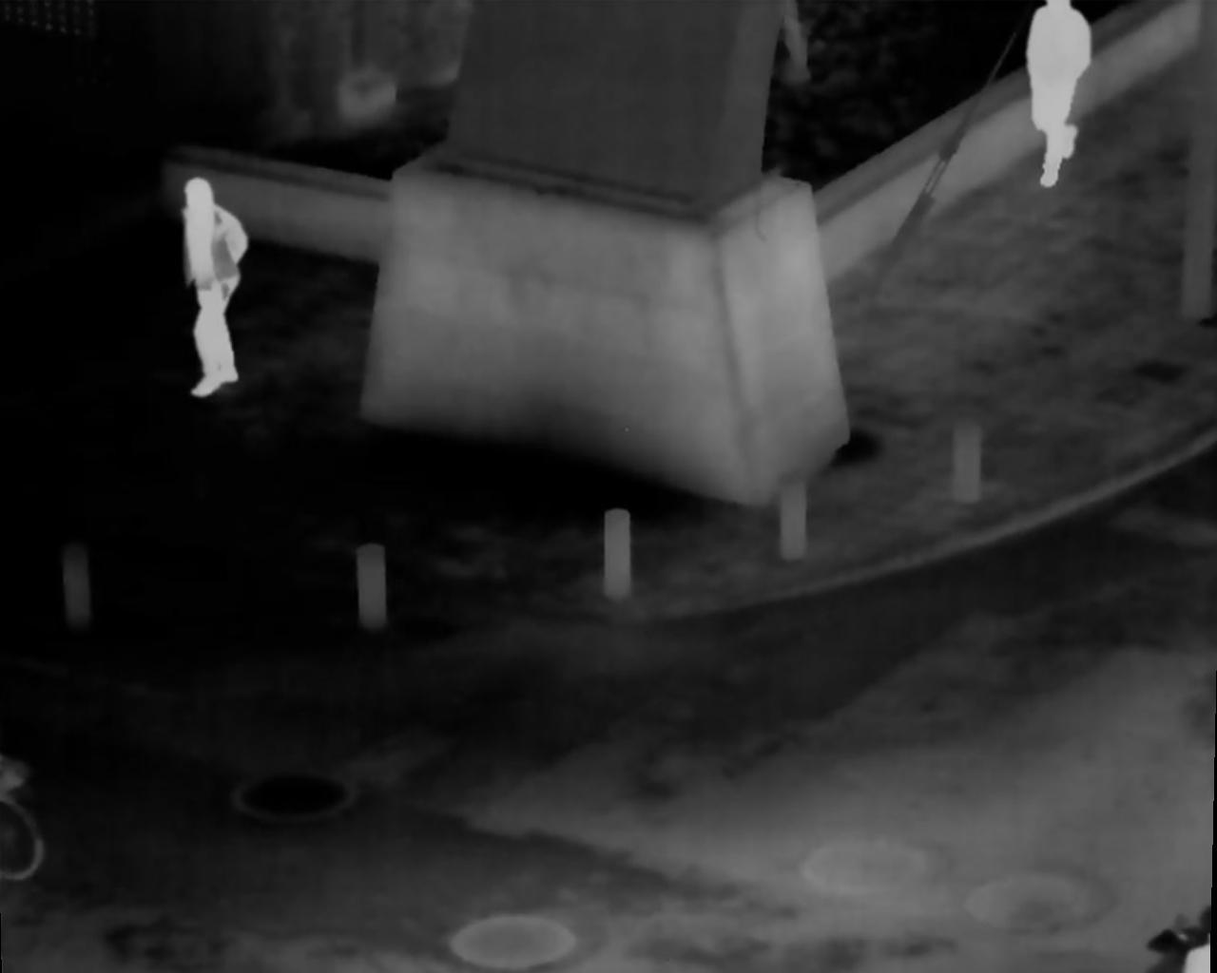person: (169, 174, 246, 401)
